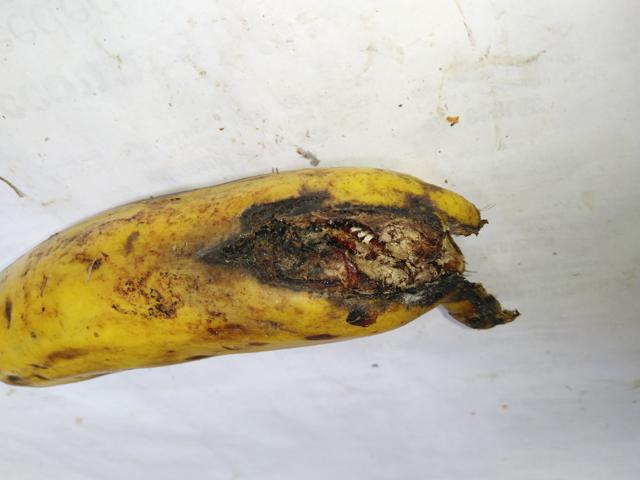rotten: (182, 150, 529, 369)
